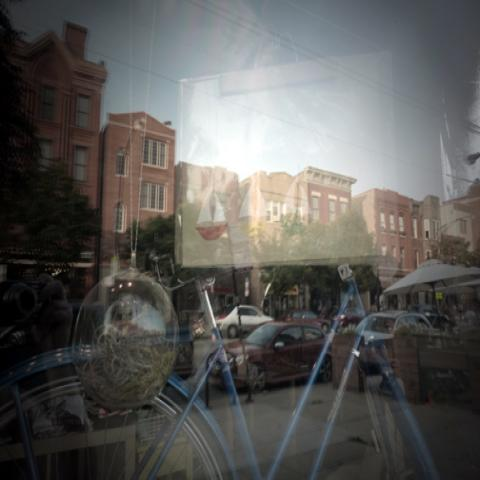car: (207, 322, 331, 398), (356, 309, 435, 347), (217, 306, 273, 337), (286, 311, 332, 331)
